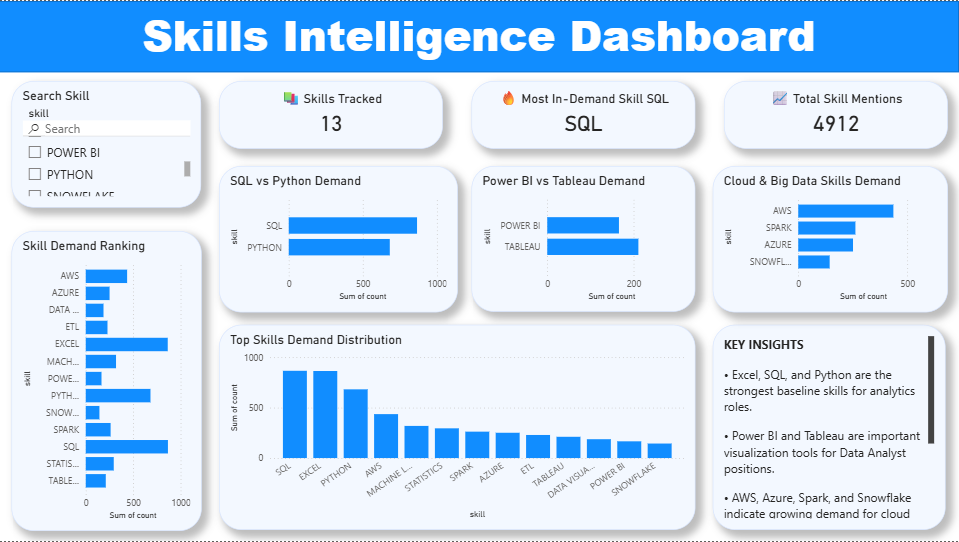

Layout of this report page (visuals, bound fields, positions):
{"tool":"powerbi","page":{"name":"Skills Intelligence","canvas":[1280,720],"ordinal":1},"visuals":[{"type":"shape","box":[0,0,1280,95],"z":0},{"type":"textbox","box":[0,0,1280,95],"z":1000},{"type":"card","title":"📚 Skills Tracked ","fields":{"Values":["cleaned_jobs_with_skills.Total Skills Identified"]},"box":[292.9,107.1,298.6,90],"z":3000},{"type":"card","title":"🔥 Most In-Demand Skill SQL","fields":{"Values":["cleaned_jobs_with_skills.Most Demanded Skill"]},"box":[630,107.1,298.6,90],"z":4000},{"type":"card","title":"📈 Total Skill Mentions ","fields":{"Values":["cleaned_jobs_with_skills.Total Skill Mentions"]},"box":[967.1,107.1,298.6,90],"z":5000},{"type":"clusteredBarChart","title":"SQL vs Python Demand","fields":{"Category":["skill_demand.skill"],"Y":["Sum(skill_demand.count)"]},"box":[293.3,220,318.3,195],"z":6000},{"type":"clusteredBarChart","title":"Power BI vs Tableau Demand","fields":{"Category":["skill_demand.skill"],"Y":["Sum(skill_demand.count)"]},"box":[630,220,298.6,194.3],"z":7000},{"type":"clusteredBarChart","title":"Skill Demand Ranking","fields":{"Category":["skill_demand.skill"],"Y":["Sum(skill_demand.count)"]},"box":[16.7,306.7,253.3,400],"z":8000},{"type":"textbox","box":[951.7,431.7,310,273.3],"z":9000},{"type":"slicer","title":"Search Skill","fields":{"Values":["skill_demand.skill"]},"box":[17.1,107.1,252.9,168.6],"z":10000},{"type":"clusteredBarChart","title":"Cloud & Big Data Skills Demand","fields":{"Category":["skill_demand.skill"],"Y":["Sum(skill_demand.count)"]},"box":[951.7,220,313.3,195],"z":11000},{"type":"clusteredColumnChart","title":"Top Skills Demand Distribution","fields":{"Category":["skill_demand.skill"],"Y":["Sum(skill_demand.count)"]},"box":[293.3,431.7,635,273.3],"z":12000}]}

Visuals, with their boxes in screenshot pixels (x1, y1, x2, y2), scaled from the page's 1280x720 canvas onto the 959x542 screenshot:
shape: box(0, 0, 958, 72)
textbox: box(0, 0, 958, 72)
"📚 Skills Tracked " card: box(219, 81, 443, 148)
"🔥 Most In-Demand Skill SQL" card: box(472, 81, 696, 148)
"📈 Total Skill Mentions " card: box(725, 81, 948, 148)
"SQL vs Python Demand" clusteredBarChart: box(220, 166, 458, 312)
"Power BI vs Tableau Demand" clusteredBarChart: box(472, 166, 696, 312)
"Skill Demand Ranking" clusteredBarChart: box(13, 231, 202, 532)
textbox: box(713, 325, 945, 531)
"Search Skill" slicer: box(13, 81, 202, 208)
"Cloud & Big Data Skills Demand" clusteredBarChart: box(713, 166, 948, 312)
"Top Skills Demand Distribution" clusteredColumnChart: box(220, 325, 695, 531)
